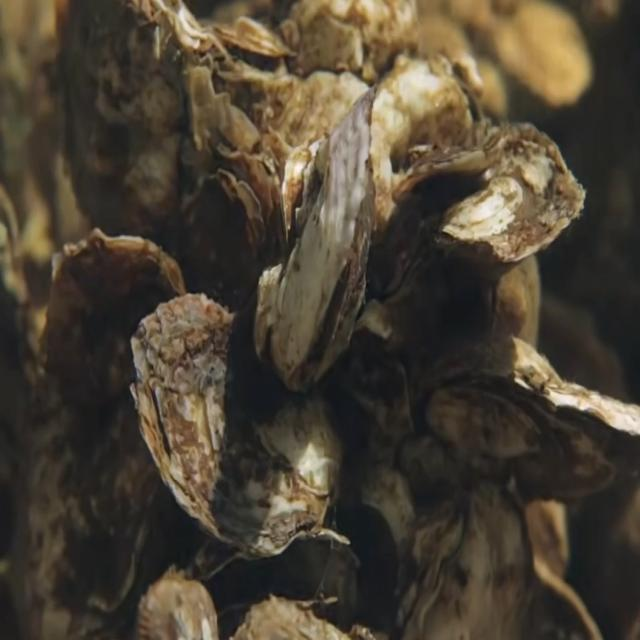Oyster-Closed: (31, 224, 188, 640), (377, 123, 588, 314), (409, 337, 640, 511), (251, 83, 379, 395), (392, 480, 538, 640)
Oyster-Indeterminate: (127, 290, 349, 559), (62, 2, 220, 276), (180, 167, 265, 309)
Oyster-Open: (196, 527, 352, 614)
